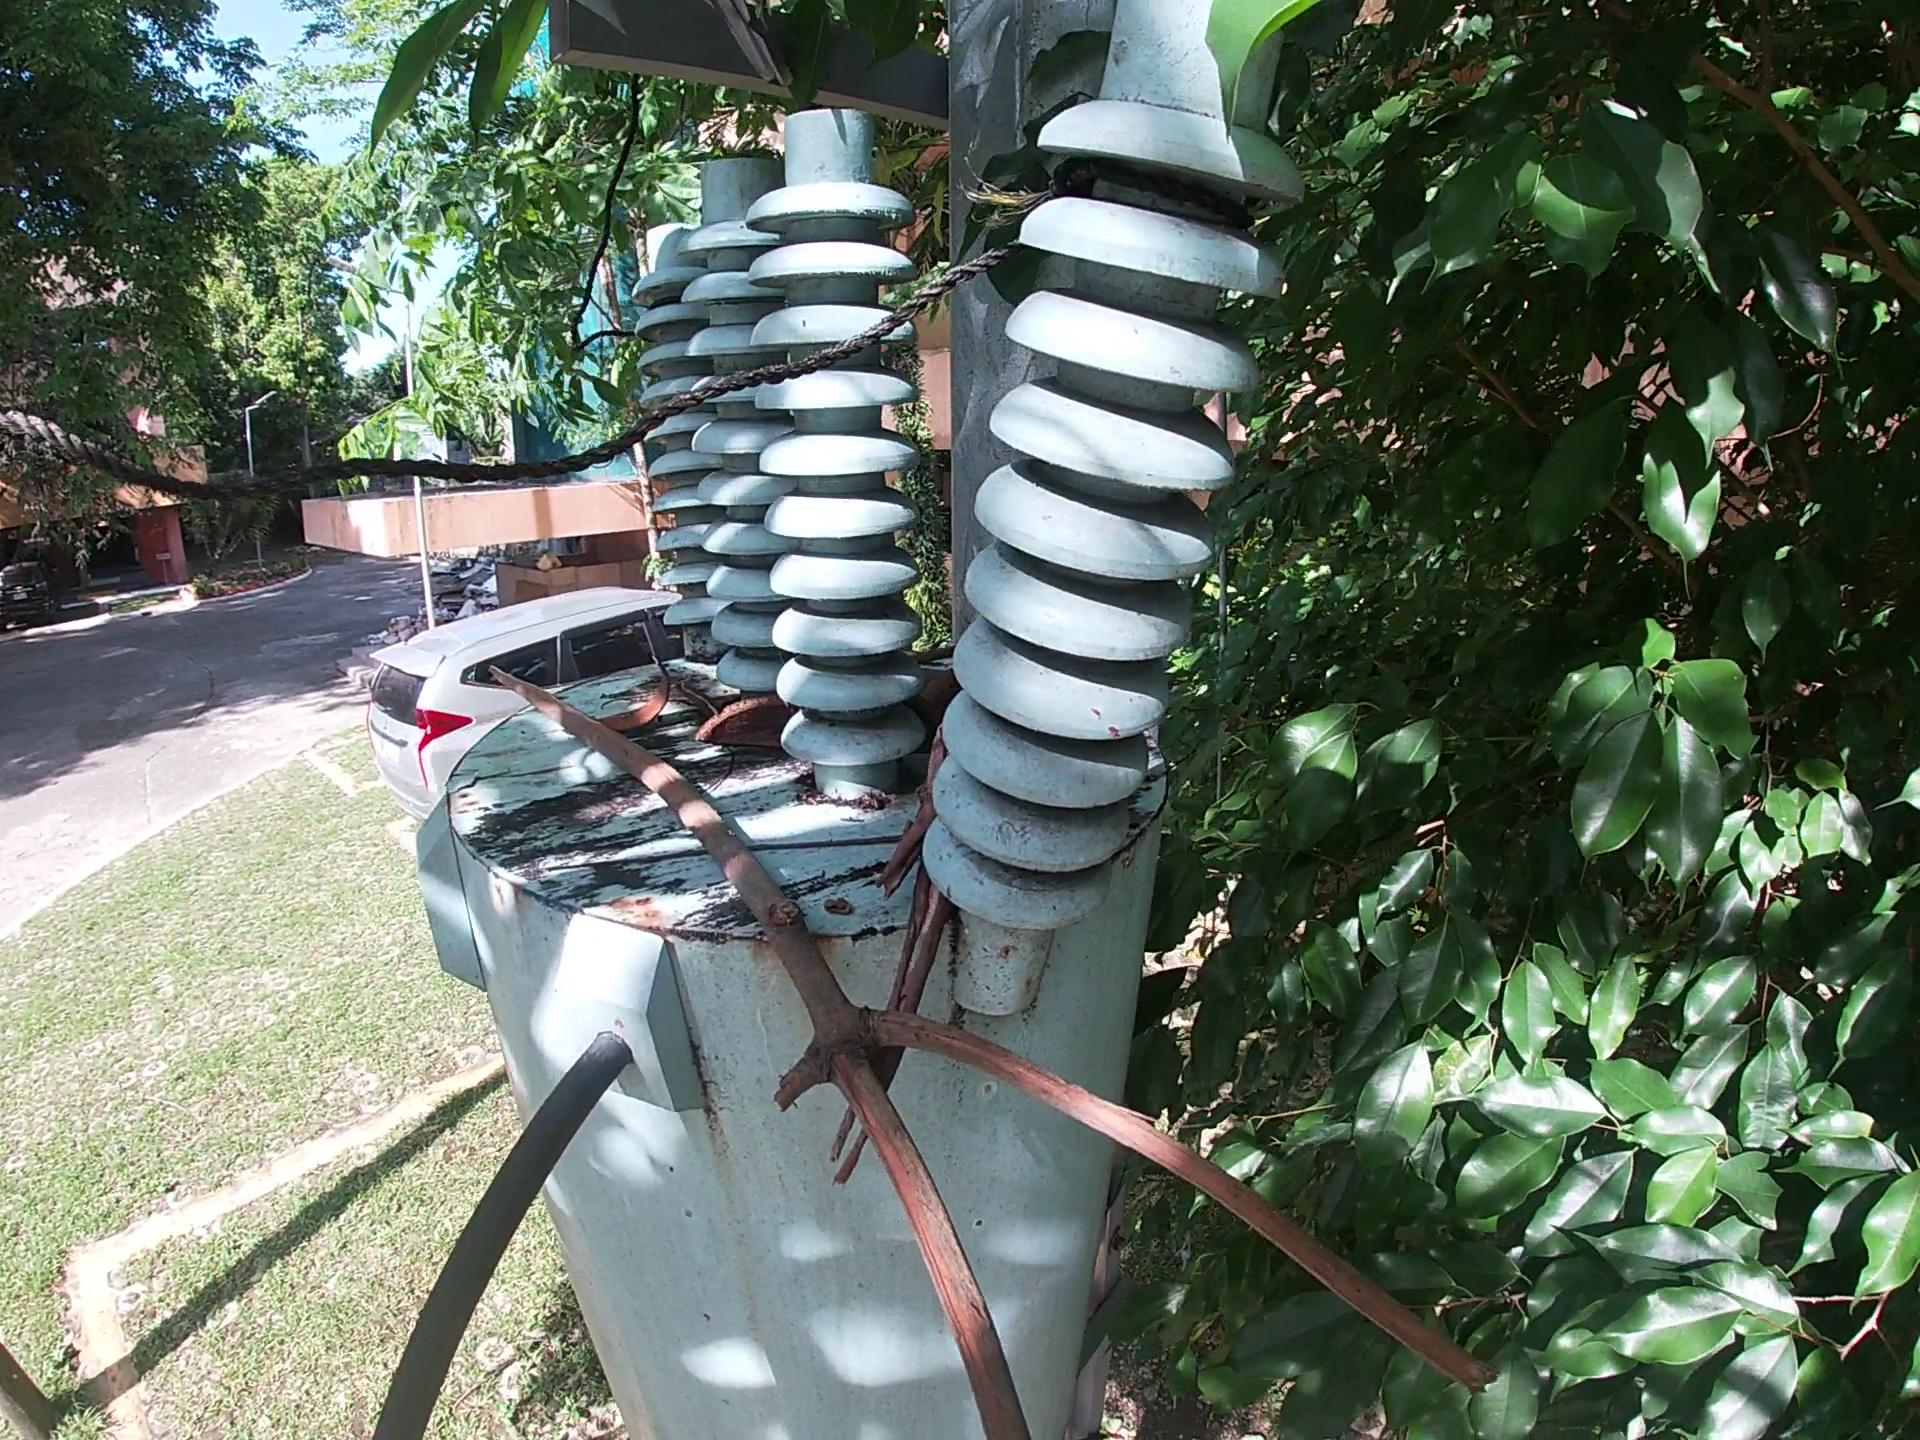mahogany fruit: (692, 690, 800, 753), (596, 655, 674, 737)
tree branch: (460, 647, 1510, 1432), (810, 799, 978, 1206)
